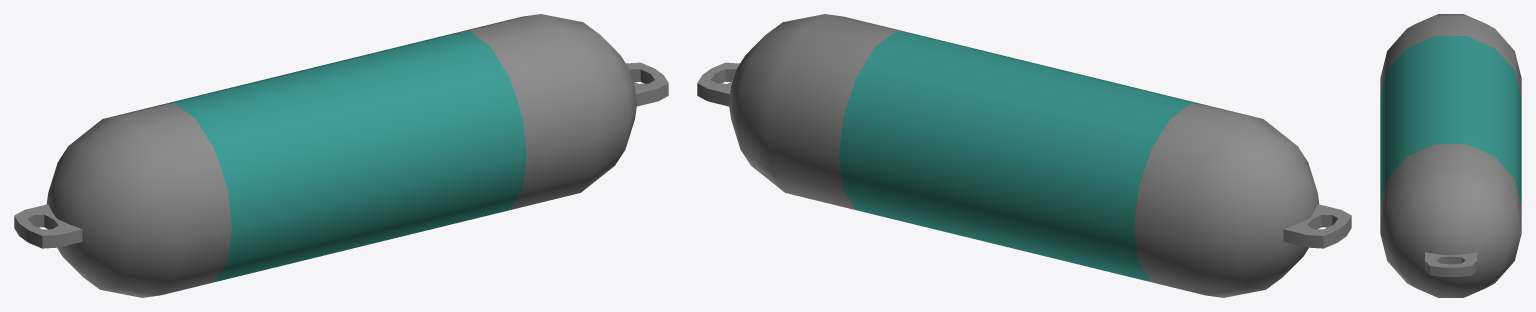
The model's file is prop_30.FBX.
3 renders of one model, left to right at view 1: azimuth 30°, elevation 25°; view 2: azimuth 150°, elevation 25°; view 3: azimuth 270°, elevation 25°, orthographic. The views are drawn at different scales.
Visible parts, largest first — view 1: prop_30; view 2: prop_30; view 3: prop_30.
Boxes of the visible parts, left/top/right/bottom form: prop_30: left=14, top=14, right=668, bottom=297; prop_30: left=697, top=14, right=1351, bottom=297; prop_30: left=1380, top=14, right=1521, bottom=297.
Size of the model in its own units: 42.42 by 10.61 by 10.88.
